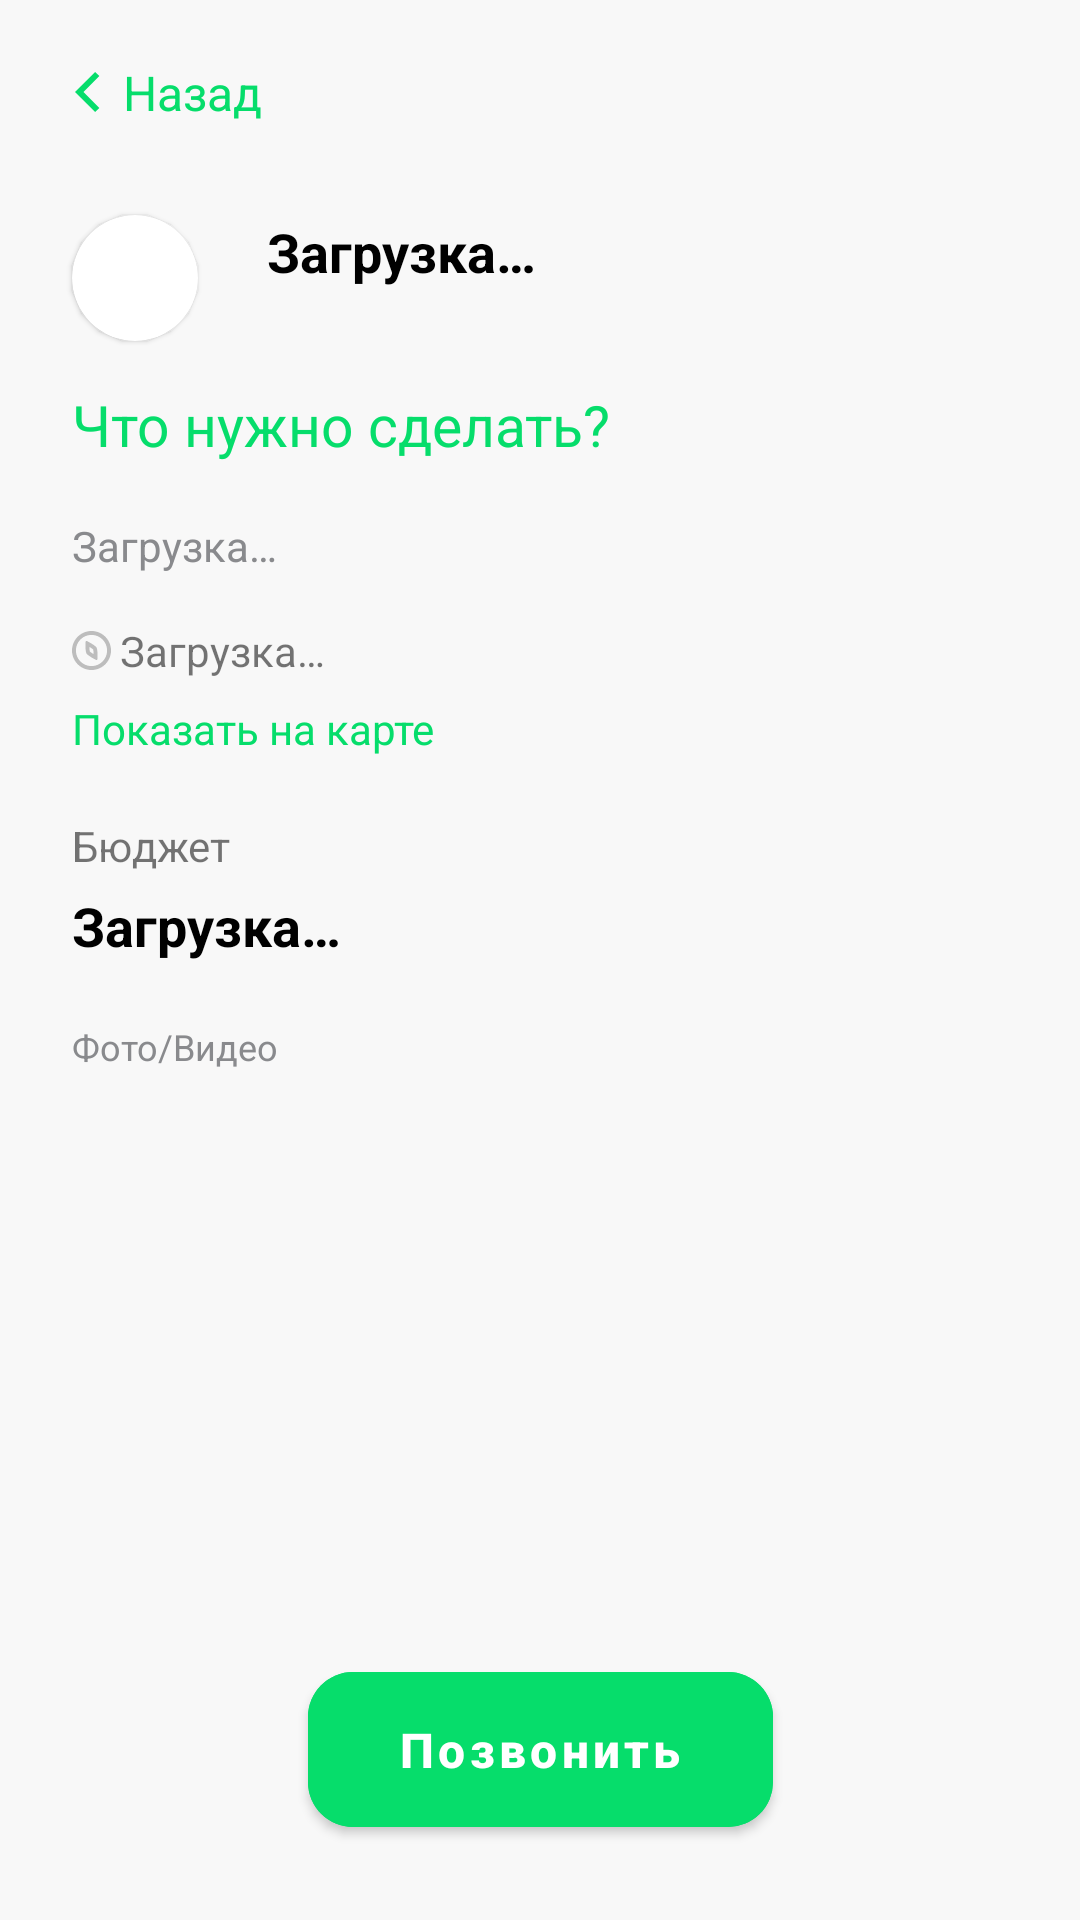

Where icons sit on this 1080w x 1920h app screen, as [x1, y1, x2, y2]:
back arrow: [75, 72, 99, 112]
compas: [72, 631, 111, 670]
